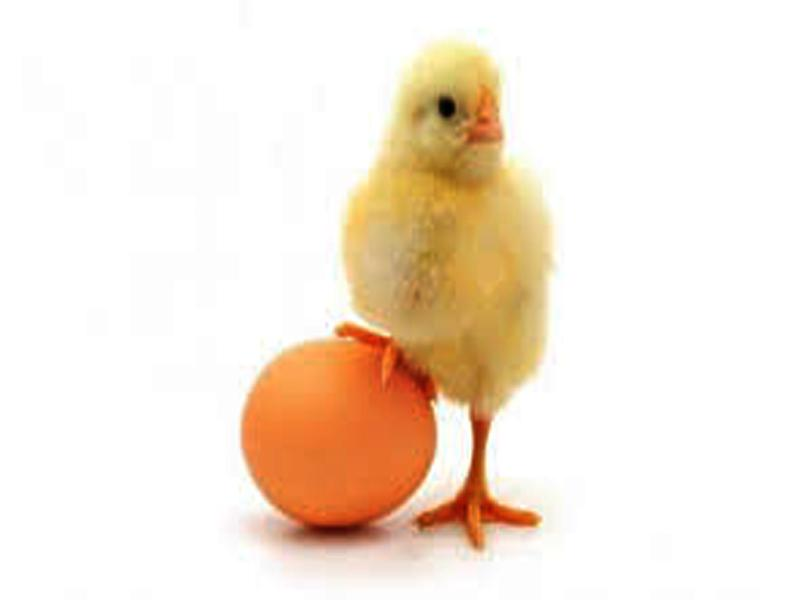Eggs: (239, 330, 439, 526)
